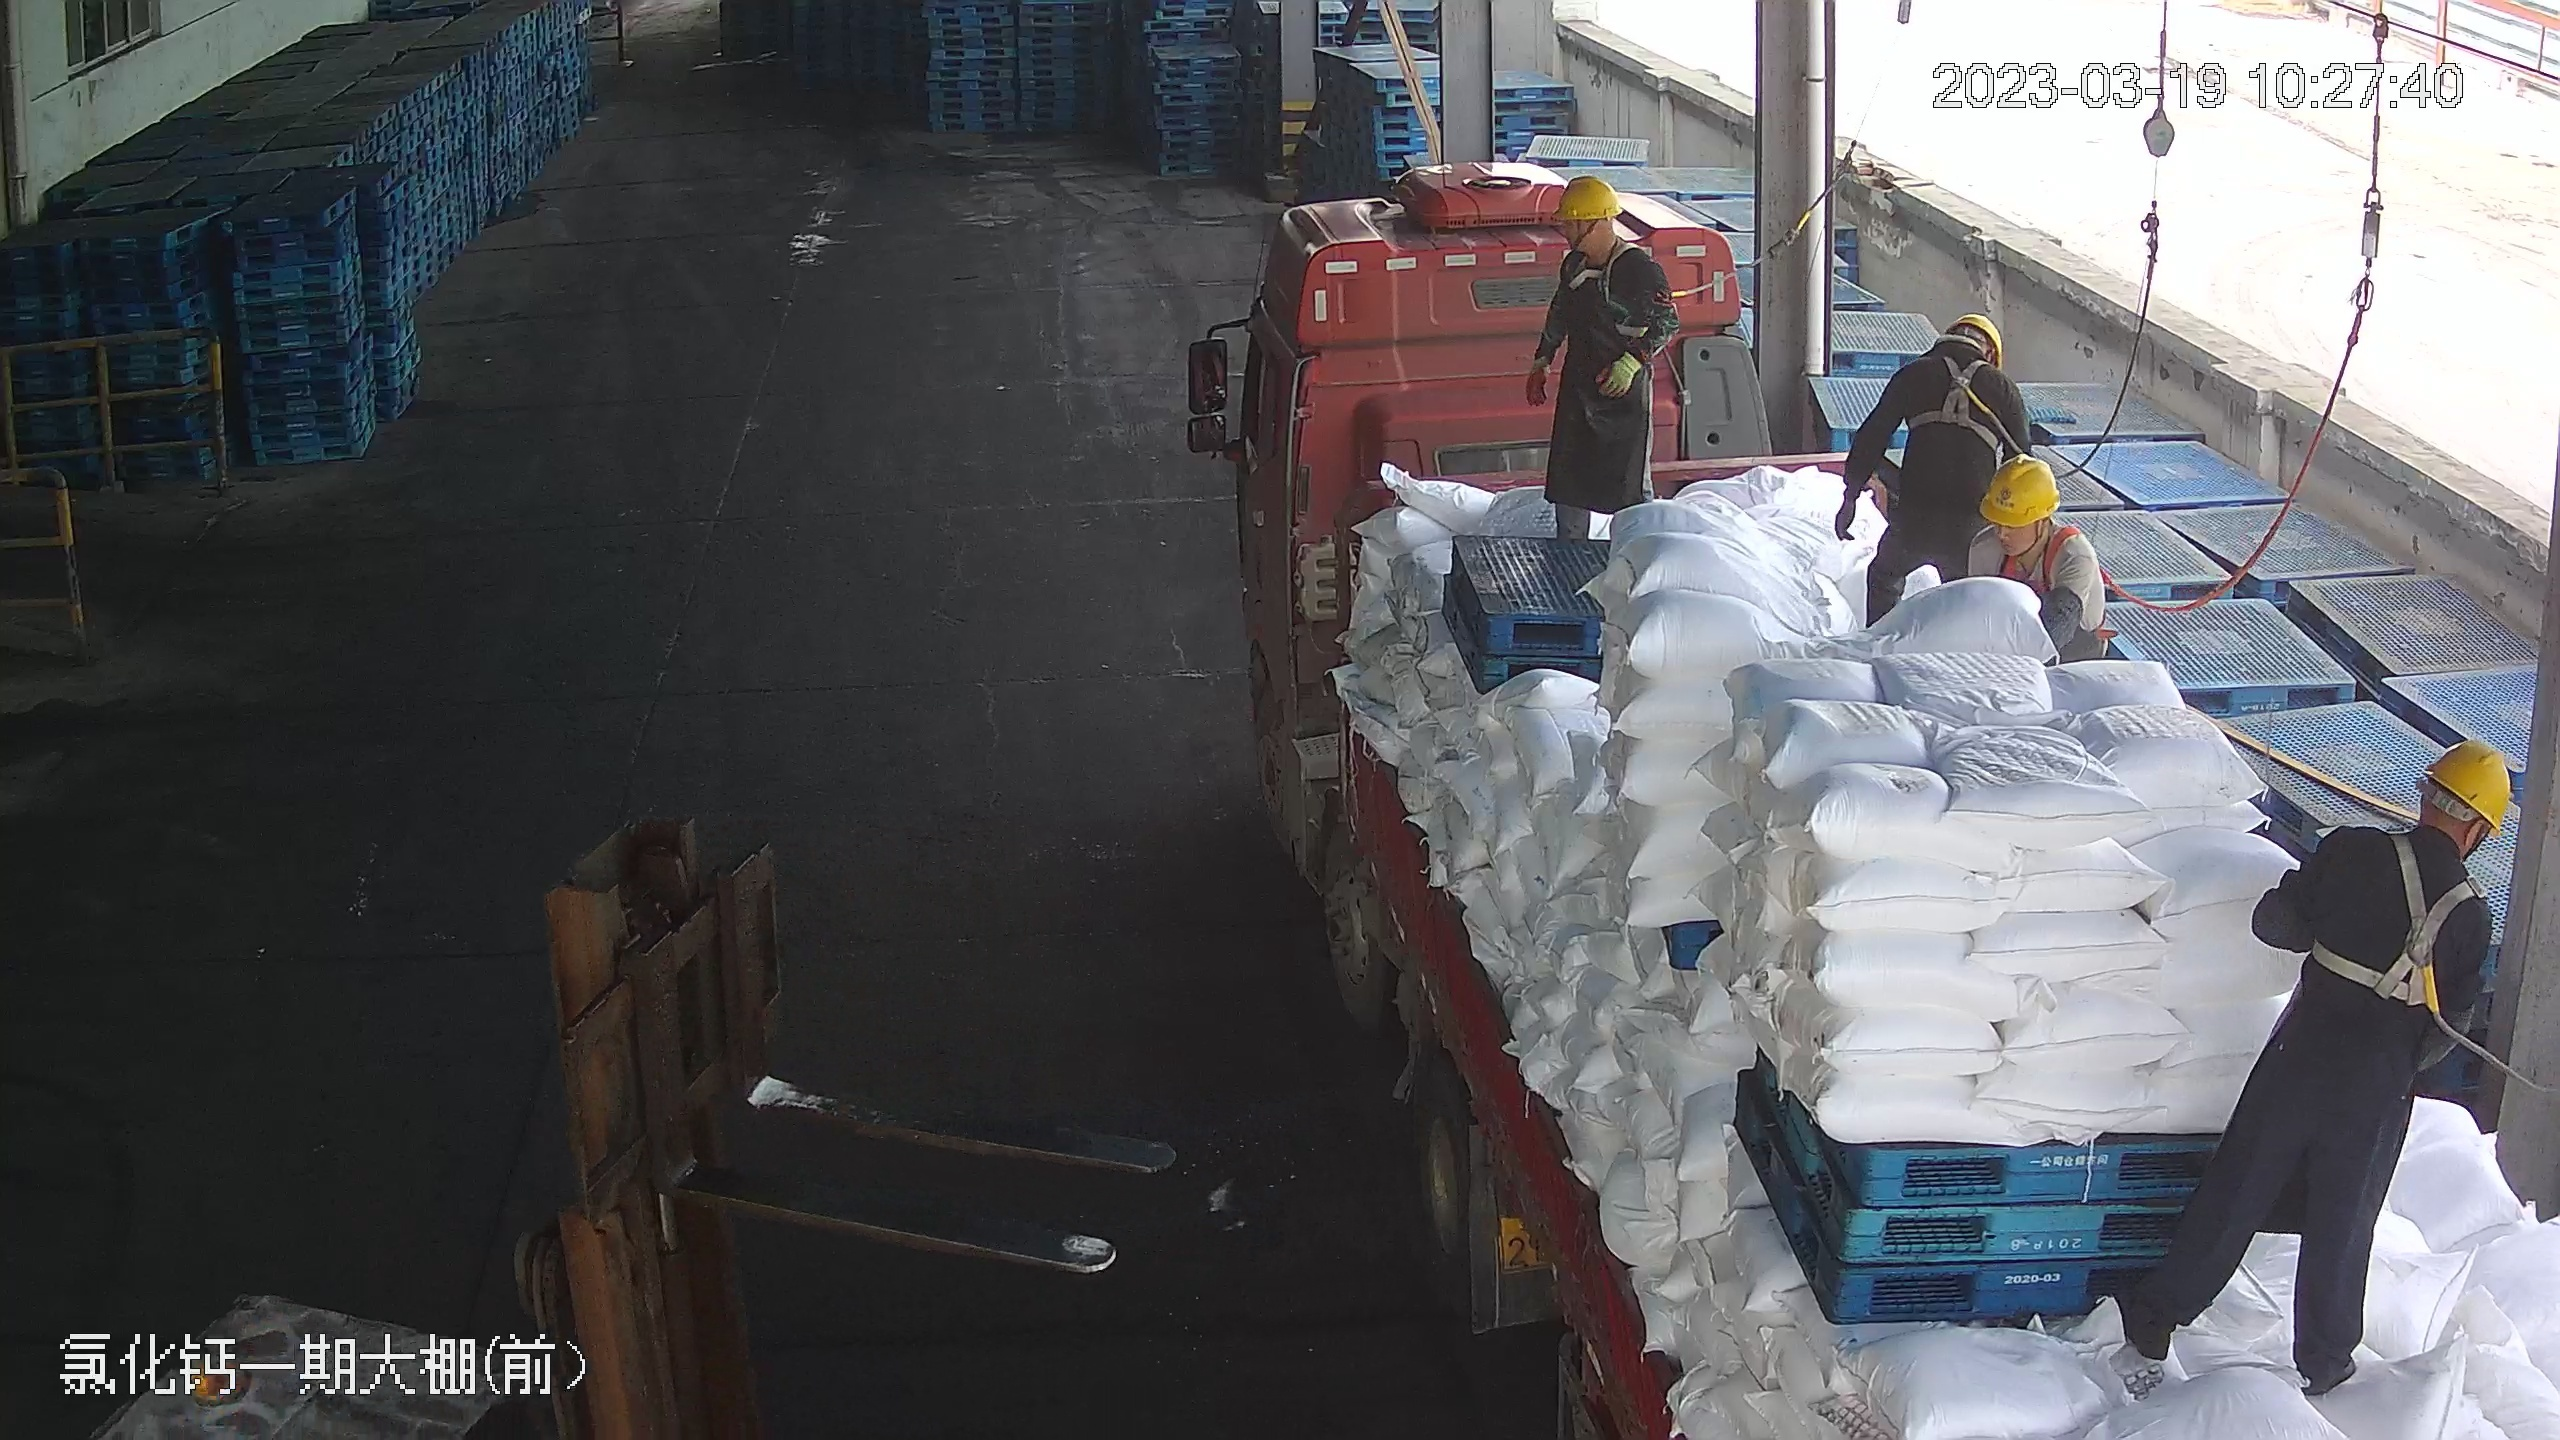belt: (2292, 818, 2483, 1025), (1980, 524, 2109, 620), (1913, 349, 2009, 438), (1559, 239, 1659, 326)
head: (2292, 735, 2513, 943), (1950, 447, 2100, 597), (1542, 173, 1666, 306), (1898, 308, 2017, 416)
helmet: (2419, 735, 2510, 838), (1978, 449, 2063, 524), (1553, 173, 1623, 222), (1946, 308, 2004, 365)
people: (2105, 734, 2519, 1398), (1834, 306, 2026, 629), (1526, 175, 1673, 532)
truck: (1214, 158, 2531, 1440)
